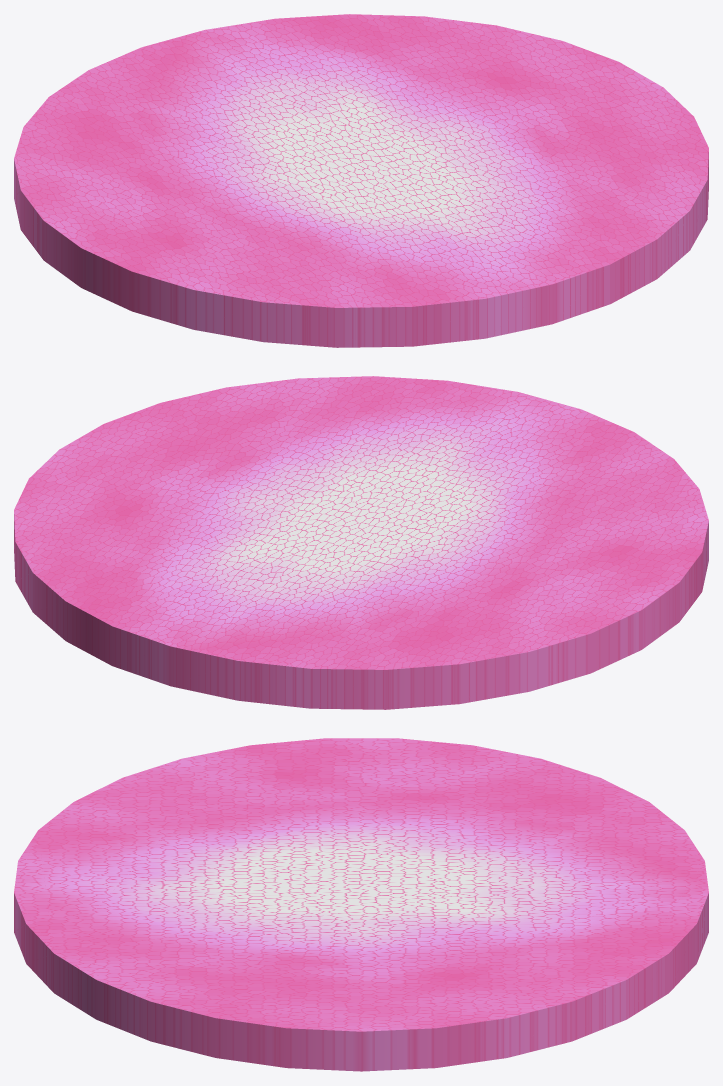
The model's file is TempArena.fbx.
3 renders of one model, top to bottom at view 1: azimuth 30°, elevation 25°; view 2: azimuth 150°, elevation 25°; view 3: azimuth 270°, elevation 25°, orthographic.
Visible parts, largest first — view 1: Cylinder001; view 2: Cylinder001; view 3: Cylinder001.
Part boxes in pixels (<box>): Cylinder001: <box>14,14,708,347</box>; Cylinder001: <box>14,376,708,709</box>; Cylinder001: <box>14,738,708,1071</box>.
Size of the model in its own units: 268 by 16.96 by 268.
Materials: 1 (1 with a texture image).
